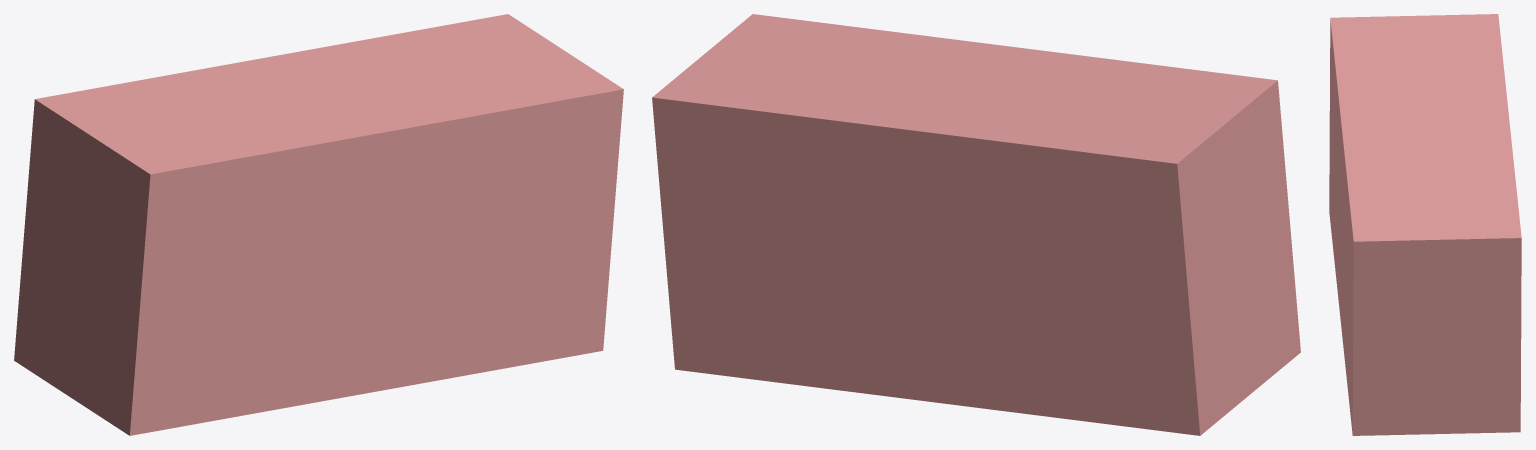
Rendered from game_meat.glb.
3 renders of one model, left to right at view 1: azimuth 30°, elevation 25°; view 2: azimuth 150°, elevation 25°; view 3: azimuth 270°, elevation 25°, orthographic. The views are drawn at different scales.
Parts seen in each view (by area): view 1: GameMeat; view 2: GameMeat; view 3: GameMeat.
Boxes of the visible parts, <box> form: GameMeat: <box>14,14,623,435</box>; GameMeat: <box>652,14,1300,435</box>; GameMeat: <box>1329,14,1521,435</box>.
Size of the model in its own units: 0.0423 by 0.0234 by 0.0172.
